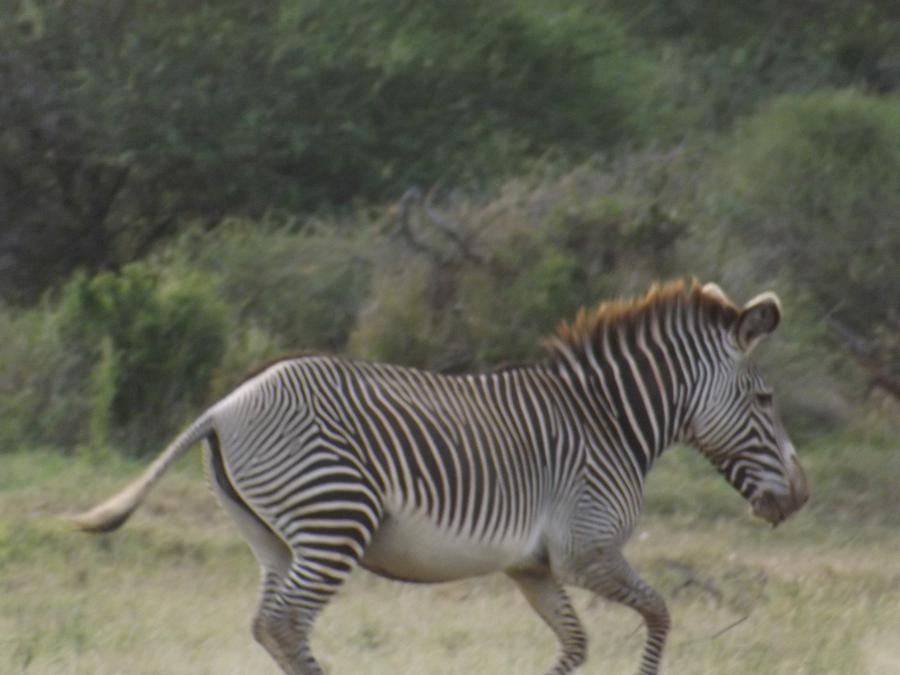zebra_grevys: (185, 339, 634, 549)
